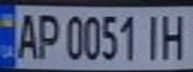0: (60, 11, 84, 61), (81, 11, 103, 61)
1: (118, 11, 142, 62)
5: (100, 11, 121, 62)
A: (12, 9, 39, 61)
H: (157, 10, 190, 61)
I: (139, 11, 166, 61)
P: (33, 9, 60, 61)
